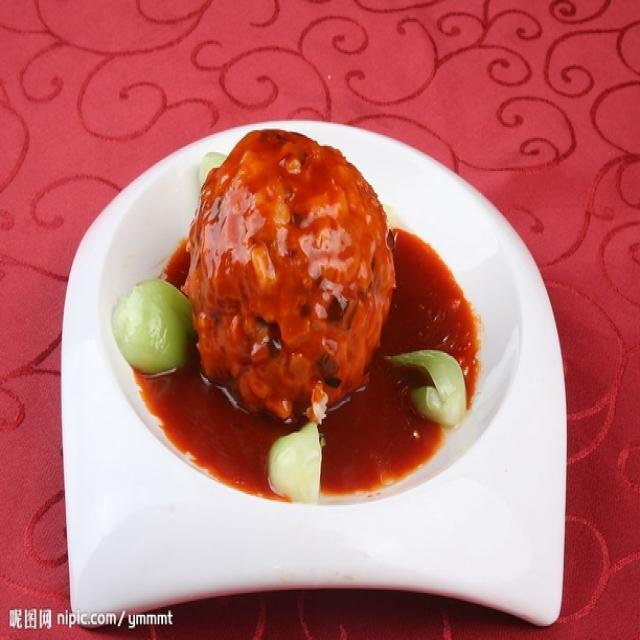meatball: (176, 121, 402, 417)
